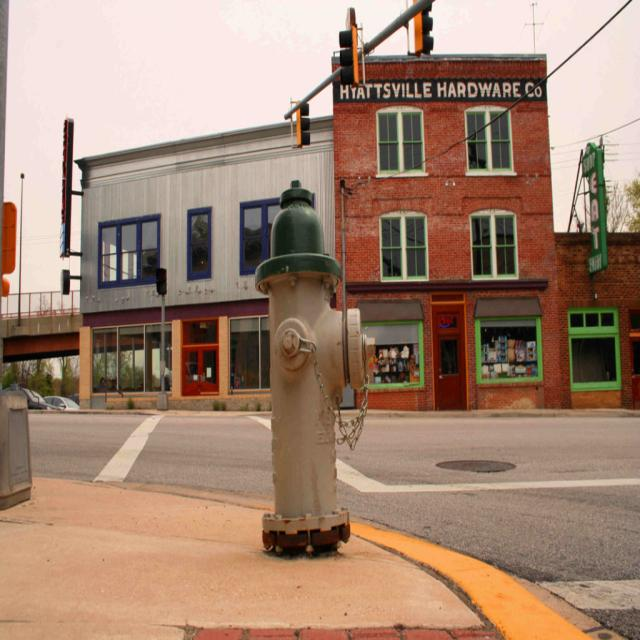fire_hydrant: (253, 181, 374, 551)
